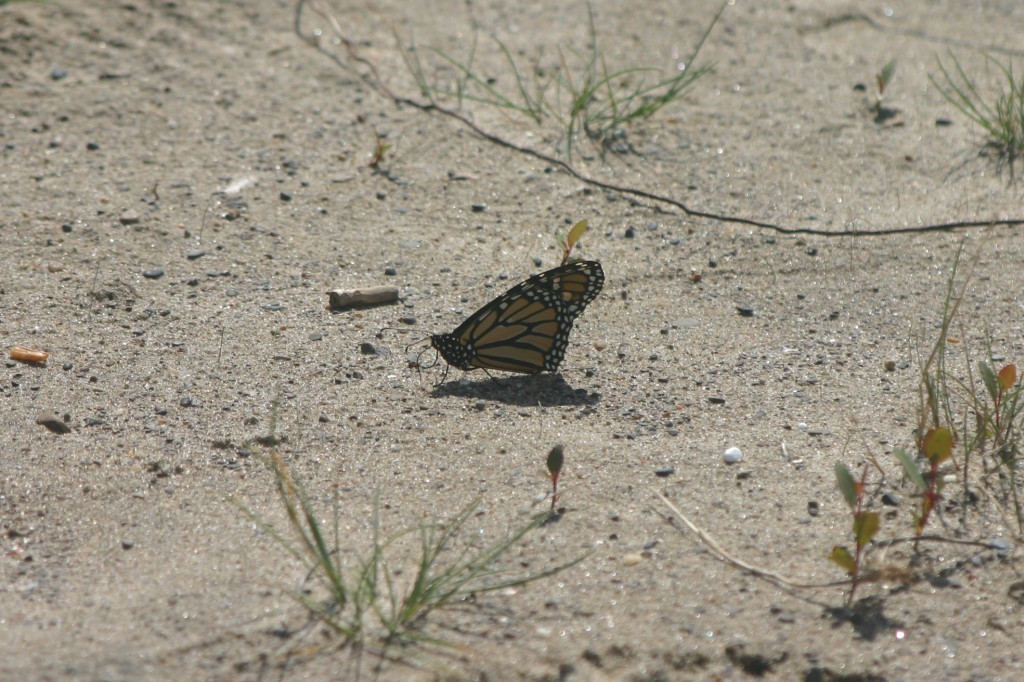Butterfly: (386, 251, 622, 389)
